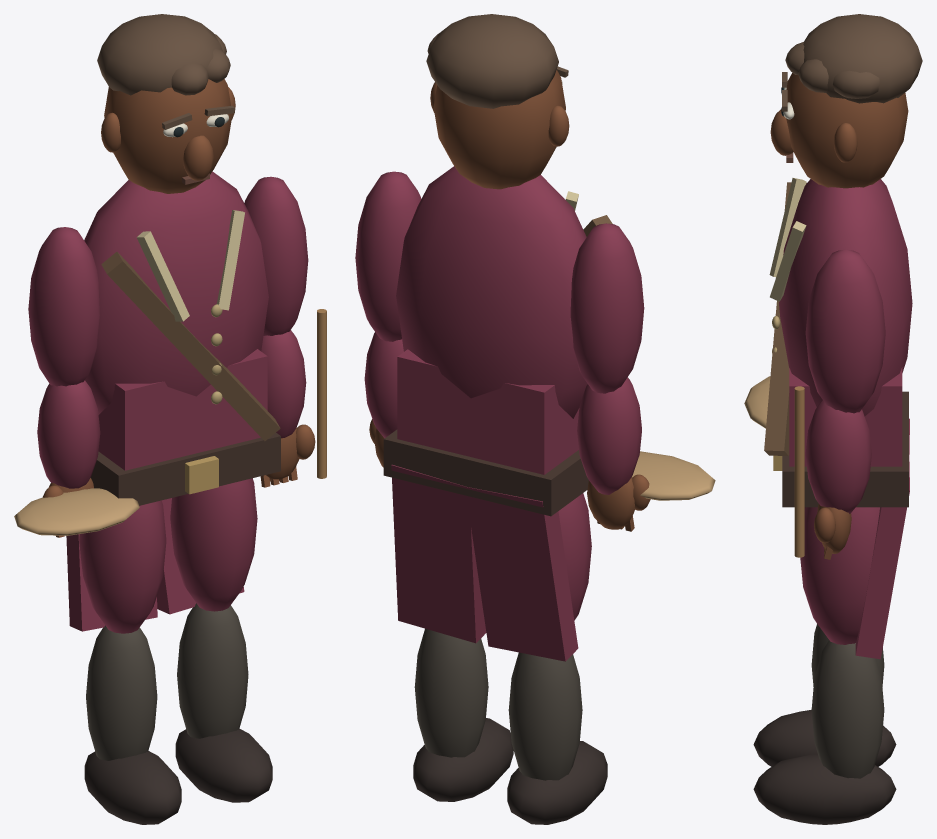
The model's file is lightweaver.glb.
The picture shows the model from 3 angles, left to right: view 1: azimuth 30°, elevation 25°; view 2: azimuth 150°, elevation 25°; view 3: azimuth 270°, elevation 25°; orthographic projection. The views are drawn at different scales.
Parts seen in each view (by area): view 1: radiant_5_stone, shin_and_foot_stone (×2), face_and_hair_stone, thigh_stone (×2), upper_arm_stone (×2), forearm_and_fingers_stone (×2), order_equipment_stone, split_cloth_stone, radiant_5_metal; view 2: radiant_5_stone, split_cloth_stone, shin_and_foot_stone (×2), face_and_hair_stone, upper_arm_stone (×2), forearm_and_fingers_stone (×2), order_equipment_stone, thigh_stone; view 3: radiant_5_stone, face_and_hair_stone, shin_and_foot_stone (×2), upper_arm_stone, forearm_and_fingers_stone, thigh_stone, split_cloth_stone, order_equipment_stone.
Boxes of the visible parts, bbox=[...] form: radiant_5_stone: bbox=[84, 171, 280, 505]; shin_and_foot_stone (×2): bbox=[84, 603, 272, 824]; face_and_hair_stone: bbox=[97, 14, 235, 193]; thigh_stone (×2): bbox=[79, 478, 257, 633]; upper_arm_stone (×2): bbox=[28, 176, 308, 386]; forearm_and_fingers_stone (×2): bbox=[37, 330, 315, 537]; order_equipment_stone: bbox=[14, 309, 326, 535]; split_cloth_stone: bbox=[66, 498, 244, 631]; radiant_5_metal: bbox=[185, 304, 222, 494]; radiant_5_stone: bbox=[383, 166, 612, 516]; split_cloth_stone: bbox=[391, 464, 578, 661]; shin_and_foot_stone (×2): bbox=[413, 628, 607, 824]; face_and_hair_stone: bbox=[426, 14, 569, 189]; upper_arm_stone (×2): bbox=[355, 171, 644, 393]; forearm_and_fingers_stone (×2): bbox=[364, 332, 650, 531]; order_equipment_stone: bbox=[632, 451, 715, 500]; thigh_stone: bbox=[558, 493, 591, 620]; radiant_5_stone: bbox=[764, 178, 912, 507]; face_and_hair_stone: bbox=[770, 14, 922, 188]; shin_and_foot_stone (×2): bbox=[753, 624, 896, 824]; upper_arm_stone: bbox=[805, 249, 885, 413]; forearm_and_fingers_stone: bbox=[805, 400, 871, 559]; thigh_stone: bbox=[800, 507, 879, 644]; split_cloth_stone: bbox=[855, 418, 909, 659]; order_equipment_stone: bbox=[744, 376, 804, 557].
Size of the model in its own units: 0.792 by 1.86 by 0.387.
